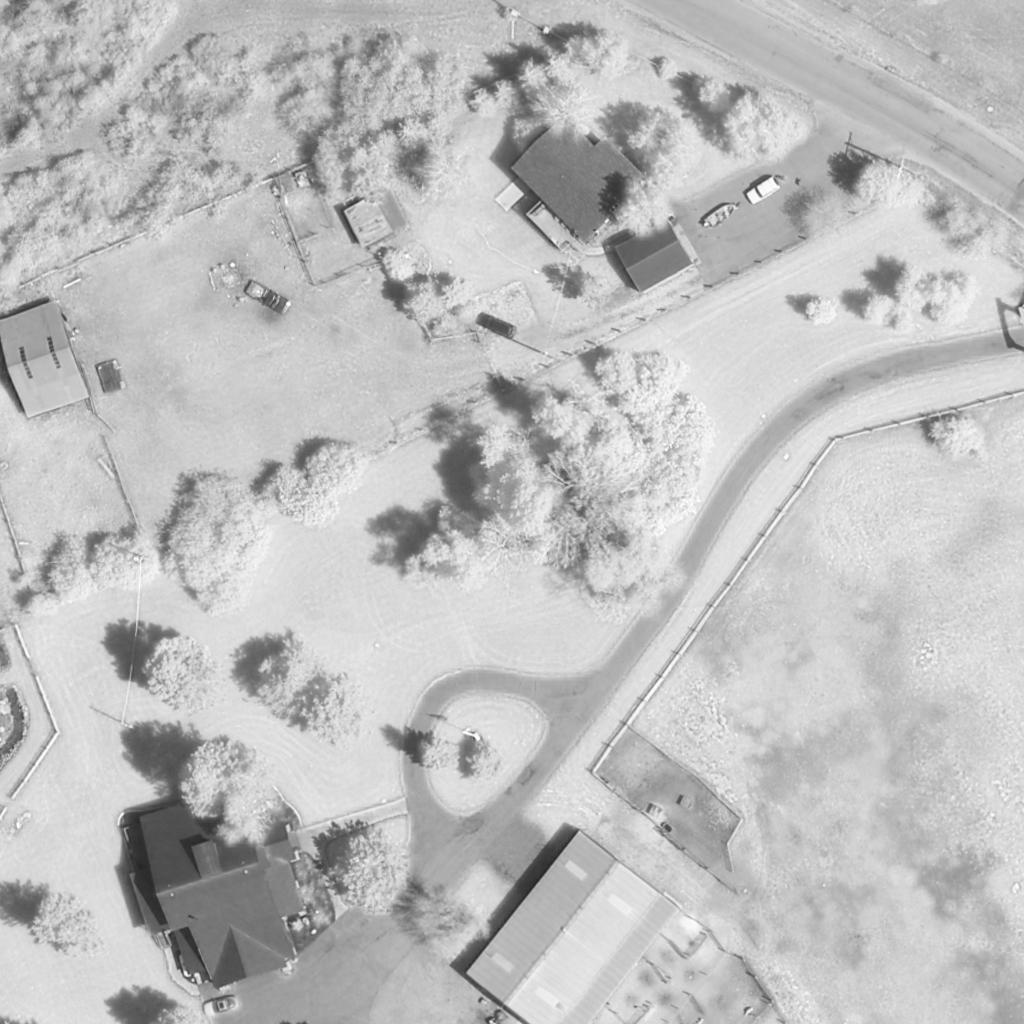vehicle: (245, 282, 291, 316), (698, 203, 740, 233), (744, 175, 782, 207), (476, 312, 518, 340), (202, 995, 242, 1017)
